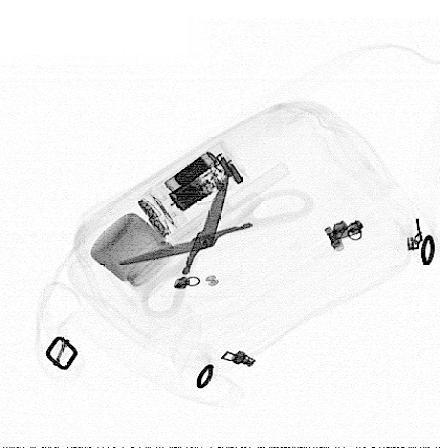Scissors: (115, 167, 316, 319)
